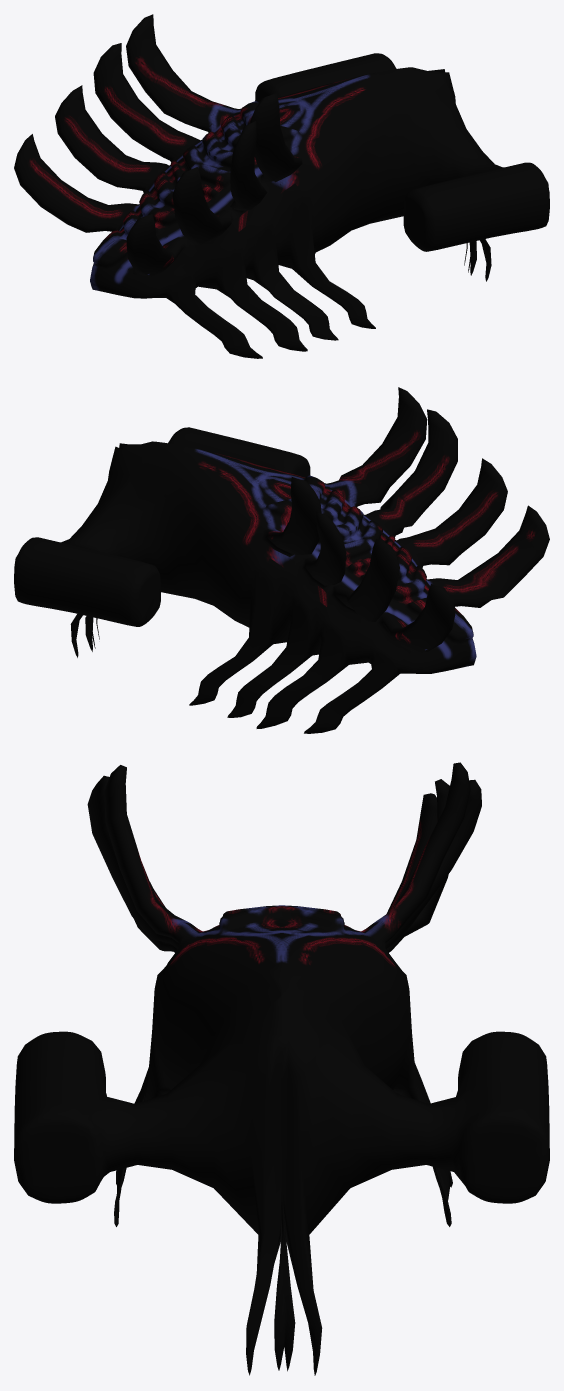
File: boss.FBX
3 views of the same model, one above another, from view 1: azimuth 30°, elevation 25°; view 2: azimuth 150°, elevation 25°; view 3: azimuth 270°, elevation 25° (orthographic). The views are drawn at different scales.
Parts seen in each view (by area): view 1: Box003; view 2: Box003; view 3: Box003.
Boxes of the visible parts, left/top/right/bottom form: Box003: left=14, top=14, right=549, bottom=358; Box003: left=14, top=387, right=549, bottom=733; Box003: left=14, top=762, right=549, bottom=1375.
Size of the model in its own units: 51.94 by 33.71 by 38.71.
